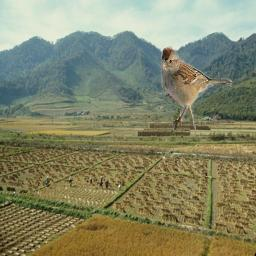Sparrow: (158, 45, 232, 131)
